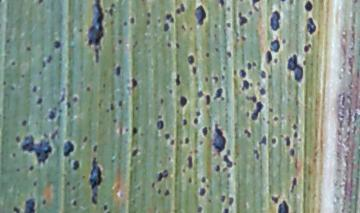tarspot: (20, 135, 53, 163), (86, 158, 102, 203), (88, 1, 103, 46), (286, 53, 303, 83), (212, 123, 227, 151), (193, 4, 207, 27), (269, 9, 281, 31), (251, 102, 264, 119), (62, 139, 74, 156), (222, 153, 233, 168), (25, 199, 36, 213), (278, 199, 289, 213), (307, 17, 316, 34), (270, 38, 280, 53), (237, 10, 247, 25), (92, 47, 101, 63), (264, 49, 273, 64), (157, 169, 167, 182), (178, 93, 187, 107), (240, 80, 250, 92), (186, 154, 193, 170), (47, 110, 57, 121), (251, 1, 262, 11), (258, 134, 267, 146), (252, 147, 260, 160), (243, 128, 253, 138), (302, 42, 312, 52), (303, 1, 312, 12), (198, 186, 207, 197), (113, 64, 121, 76), (215, 87, 223, 99), (259, 67, 267, 79), (291, 177, 297, 193), (245, 96, 258, 103), (130, 148, 140, 157), (174, 74, 181, 86), (53, 39, 62, 48), (24, 44, 33, 53), (130, 78, 138, 88), (129, 14, 137, 24), (238, 68, 246, 78), (131, 126, 139, 136), (187, 55, 195, 64), (14, 134, 22, 143), (201, 126, 209, 135), (73, 160, 80, 170), (191, 65, 198, 75), (21, 118, 28, 128), (182, 134, 189, 144), (64, 100, 71, 110), (191, 117, 199, 125), (116, 99, 124, 107), (259, 88, 267, 96), (165, 13, 173, 21), (289, 148, 297, 156), (213, 45, 221, 53), (163, 22, 170, 31), (157, 120, 164, 129), (46, 54, 53, 63), (246, 61, 253, 70), (212, 74, 219, 83), (272, 113, 279, 122), (272, 195, 279, 204), (228, 196, 234, 206), (180, 22, 186, 32), (174, 42, 182, 49), (35, 97, 43, 104), (14, 165, 21, 173), (196, 90, 204, 97), (107, 8, 115, 15), (225, 50, 232, 58), (200, 175, 207, 183), (71, 199, 78, 207), (83, 85, 91, 92), (225, 20, 232, 28), (206, 94, 211, 105), (181, 2, 186, 13), (285, 136, 290, 147), (32, 179, 38, 188), (109, 103, 115, 112), (214, 163, 220, 172), (175, 8, 182, 15), (164, 132, 171, 139), (255, 80, 262, 87), (149, 181, 156, 188), (240, 34, 247, 41), (281, 38, 288, 45), (12, 207, 20, 213), (182, 118, 188, 126), (271, 138, 277, 146), (146, 10, 152, 18), (92, 145, 98, 153), (164, 189, 170, 197), (220, 73, 226, 81), (4, 37, 12, 43), (244, 110, 250, 118), (273, 57, 279, 65), (160, 97, 165, 106), (188, 177, 193, 186), (166, 41, 172, 48), (41, 199, 47, 206), (10, 61, 17, 67), (195, 110, 201, 117), (219, 1, 225, 8), (204, 52, 211, 58), (103, 204, 109, 211), (72, 96, 78, 103), (220, 195, 226, 202), (112, 117, 118, 124), (133, 106, 140, 112), (203, 75, 209, 82), (77, 27, 84, 33), (71, 185, 77, 192), (32, 85, 37, 93), (2, 78, 7, 86), (64, 181, 72, 186), (110, 2, 116, 8), (122, 20, 128, 26), (292, 124, 298, 130), (169, 139, 175, 145), (124, 127, 130, 133), (252, 60, 257, 67), (157, 188, 162, 195), (157, 114, 164, 119), (146, 18, 151, 25), (197, 206, 202, 213), (36, 1, 44, 5), (29, 166, 35, 171), (117, 39, 123, 44), (83, 136, 88, 142), (168, 88, 173, 94), (293, 132, 298, 138), (226, 6, 231, 12), (268, 73, 273, 79), (42, 61, 46, 68), (224, 208, 229, 213), (222, 66, 227, 71), (12, 152, 16, 158), (282, 1, 287, 4)
